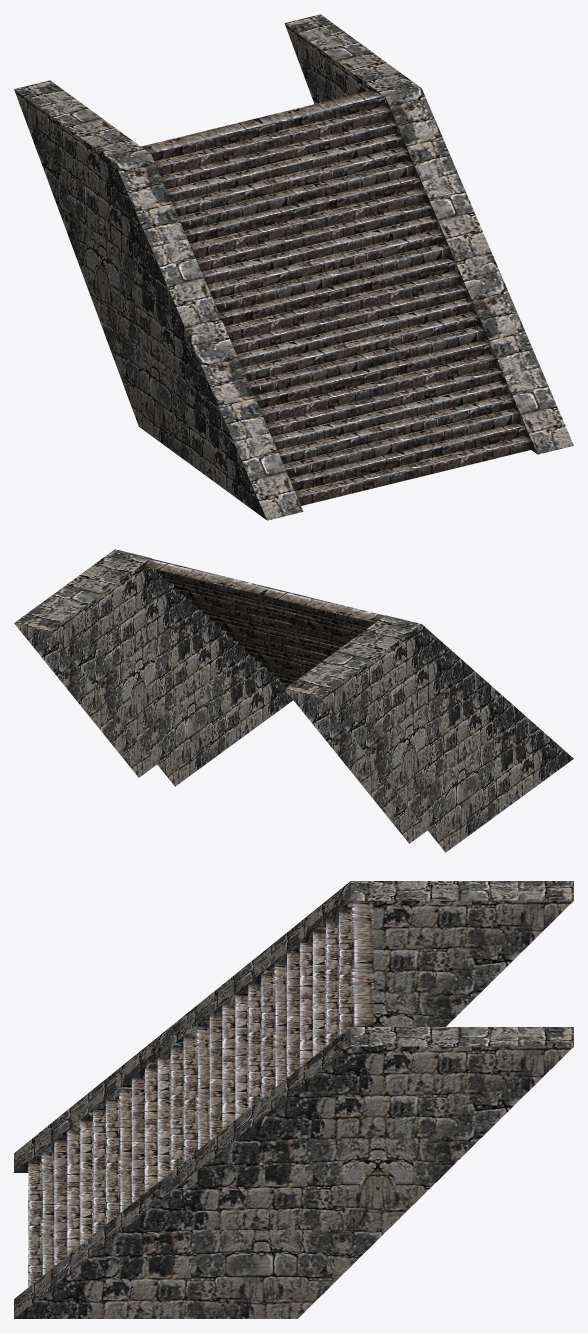
File: Desert_stair01.FBX
3 renders of one model, top to bottom at view 1: azimuth 30°, elevation 25°; view 2: azimuth 150°, elevation 25°; view 3: azimuth 270°, elevation 25°, orthographic. The views are drawn at different scales.
Parts seen in each view (by area): view 1: 0052_mayan01s; view 2: 0052_mayan01s; view 3: 0052_mayan01s.
Boxes of the visible parts, <box> form: 0052_mayan01s: <box>14,14,573,520</box>; 0052_mayan01s: <box>14,549,573,852</box>; 0052_mayan01s: <box>14,881,573,1318</box>.
Size of the model in its own units: 600 by 460 by 857.
Materials: 2 (2 with a texture image).
